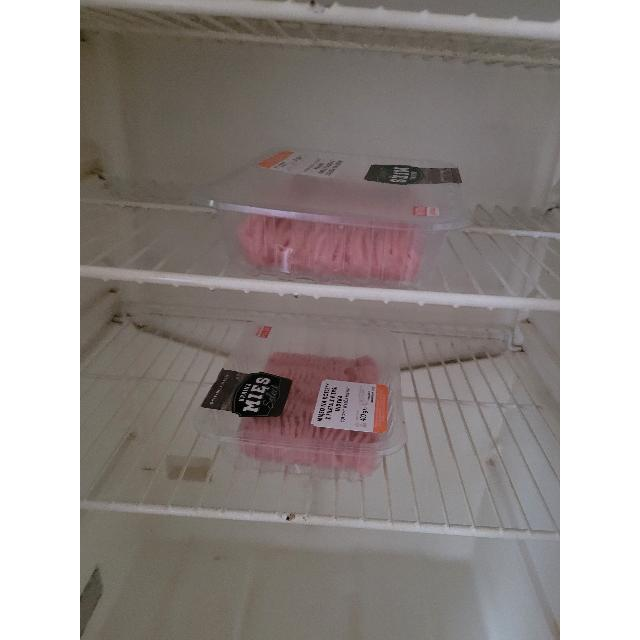meat: (244, 354, 384, 474), (238, 214, 418, 284)
